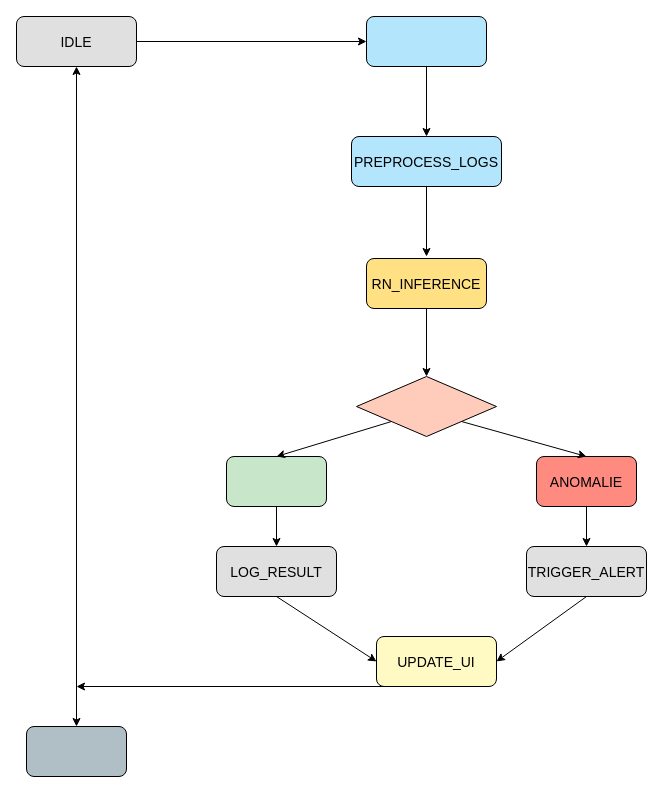
Some shapes in this 663 by 793 pixel diagram are drawn without their labels. The box of each missing label's shape, as (x1, y1, x2, y2) in pixels:
LOAD_LOGS: (366, 16, 486, 66)
NORMAL: (226, 456, 326, 506)
STOP: (26, 726, 126, 776)
THRESHOLD_CHECK: (356, 376, 496, 436)
